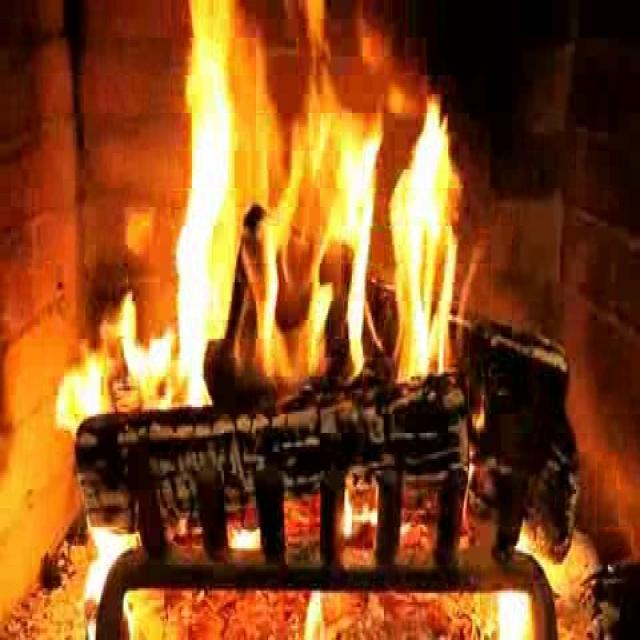fire: (165, 5, 461, 413)
